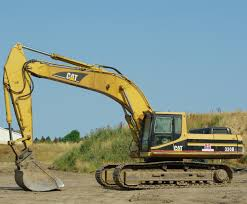excavator: (3, 41, 242, 197)
